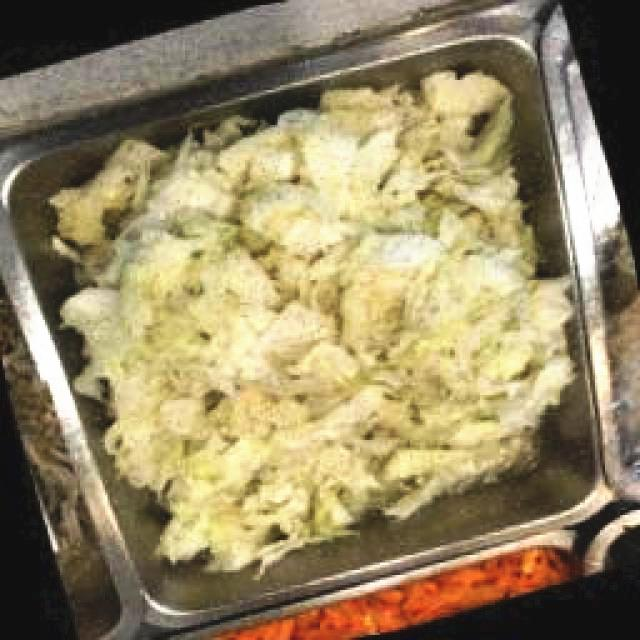chinese_cabbage: (20, 61, 587, 576)
